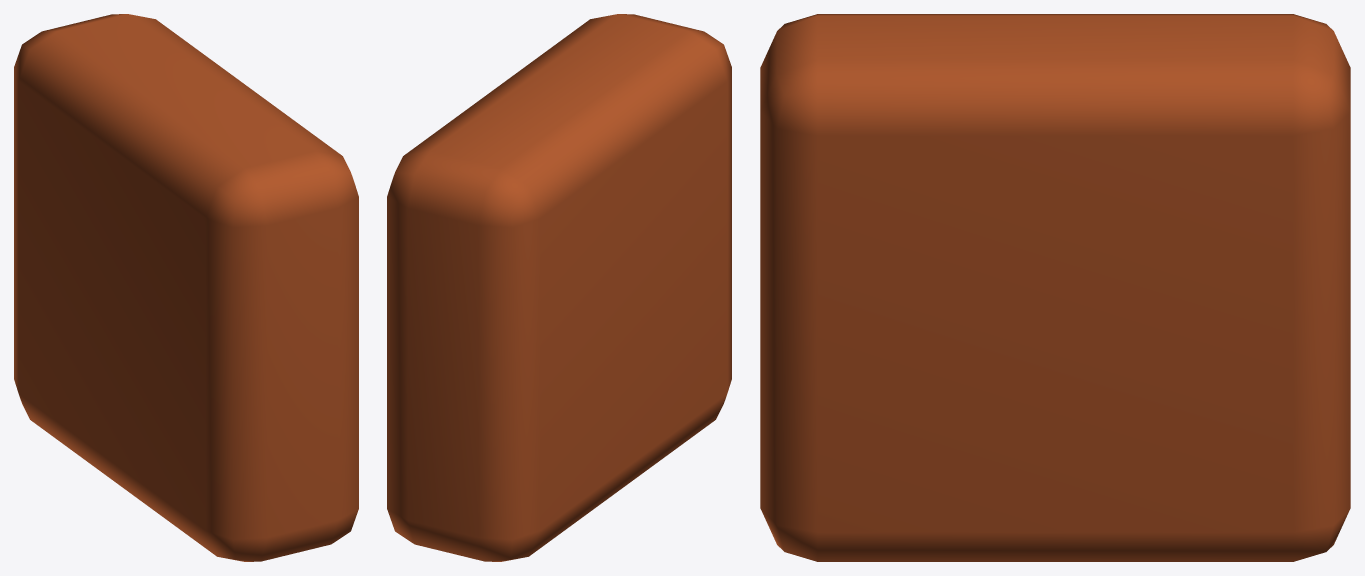
The model's file is SM_brick_02_S.glb.
3 renders of one model, left to right at view 1: azimuth 30°, elevation 25°; view 2: azimuth 150°, elevation 25°; view 3: azimuth 270°, elevation 25°, orthographic. The views are drawn at different scales.
Parts seen in each view (by area): view 1: SM_brick_02_S; view 2: SM_brick_02_S; view 3: SM_brick_02_S.
Part boxes in pixels (x1=…): SM_brick_02_S: x1=14, y1=14, x2=358, y2=561; SM_brick_02_S: x1=387, y1=14, x2=731, y2=561; SM_brick_02_S: x1=760, y1=14, x2=1350, y2=561.
Size of the model in its own units: 0.0761 by 0.1925 by 0.2058.
Materials: 1 (1 with a texture image).
